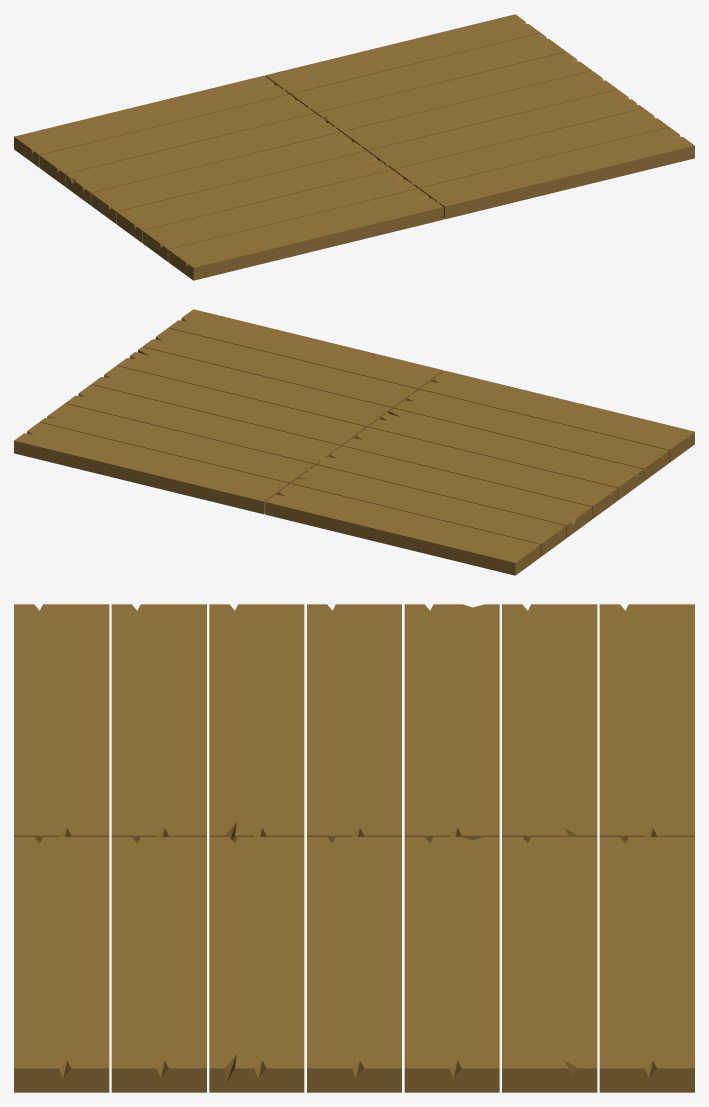
Rendered from Tezgah.fbx.
3 renders of one model, top to bottom at view 1: azimuth 30°, elevation 25°; view 2: azimuth 150°, elevation 25°; view 3: azimuth 270°, elevation 25°, orthographic. The views are drawn at different scales.
Visible parts, largest first — view 1: Cube.001, Cube; view 2: Cube.001, Cube; view 3: Cube, Cube.001.
Part boxes in pixels (x1,y1,x2,y2): Cube.001: (14, 75, 443, 280); Cube: (265, 14, 694, 219); Cube.001: (265, 370, 694, 575); Cube: (14, 309, 443, 514); Cube: (14, 837, 694, 1092); Cube.001: (14, 604, 694, 843).
Size of the model in its own units: 401 by 9.74 by 249.
